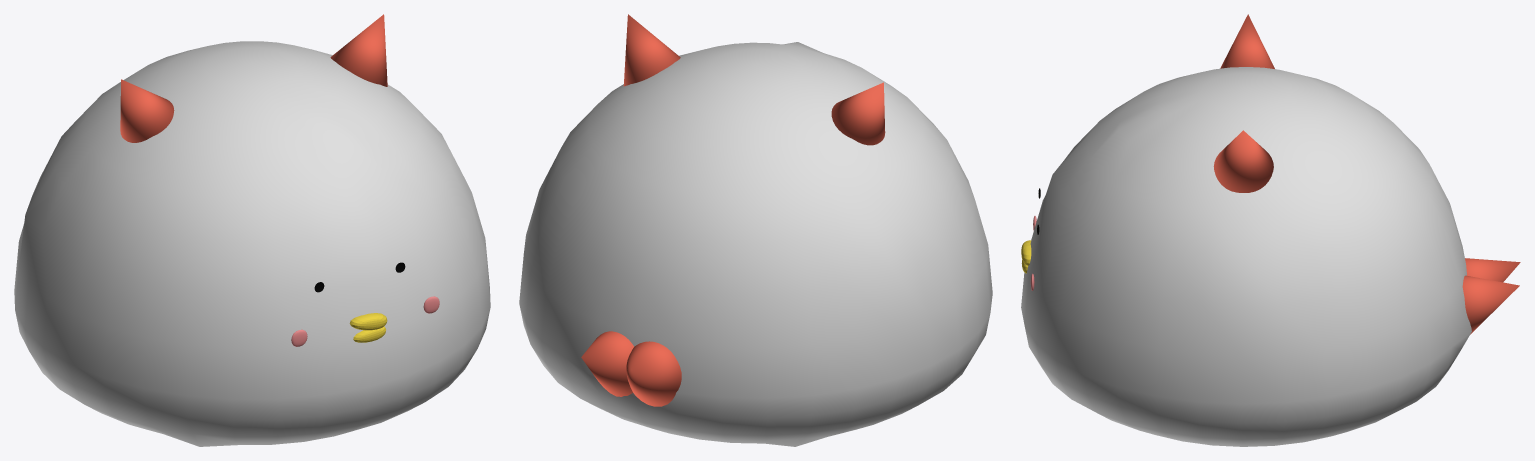
3 renders of one model, left to right at view 1: azimuth 30°, elevation 25°; view 2: azimuth 150°, elevation 25°; view 3: azimuth 270°, elevation 25°, orthographic. The views are drawn at different scales.
Parts seen in each view (by area): view 1: 몬2; view 2: 몬2; view 3: 몬2.
Part boxes in pixels (x1,y1,x2,y2): 몬2: [14, 14, 490, 446]; 몬2: [519, 14, 992, 446]; 몬2: [1021, 14, 1520, 446].
Bounding box in the file's own units: 2 × 1.65 × 2.22.
